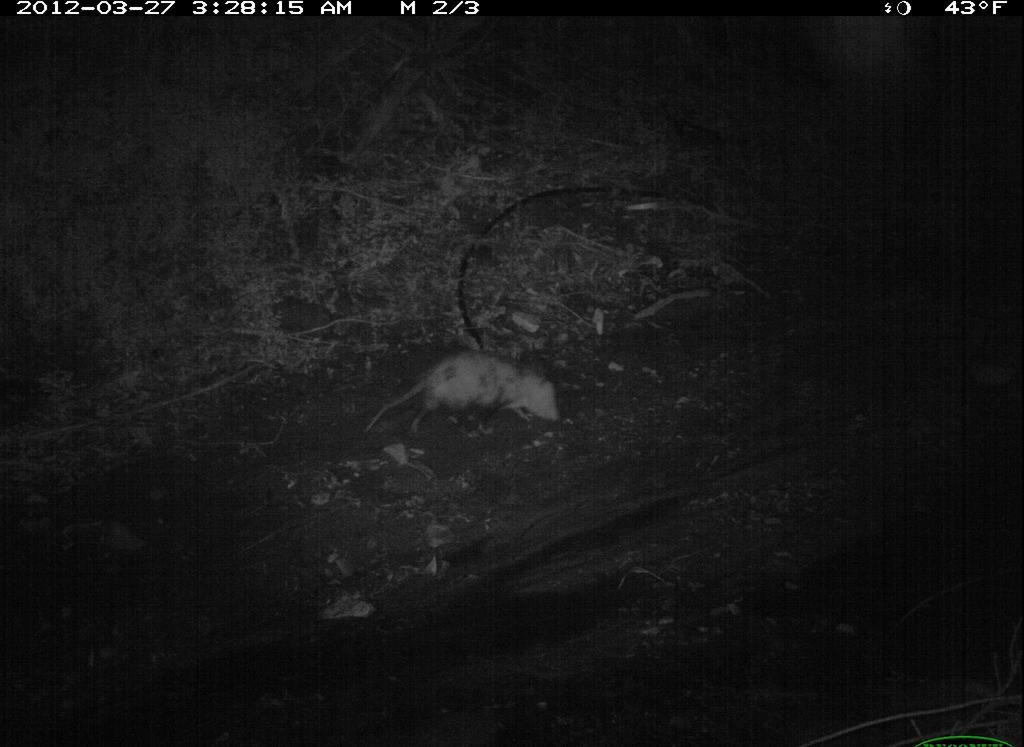opossum: (356, 340, 571, 446)
